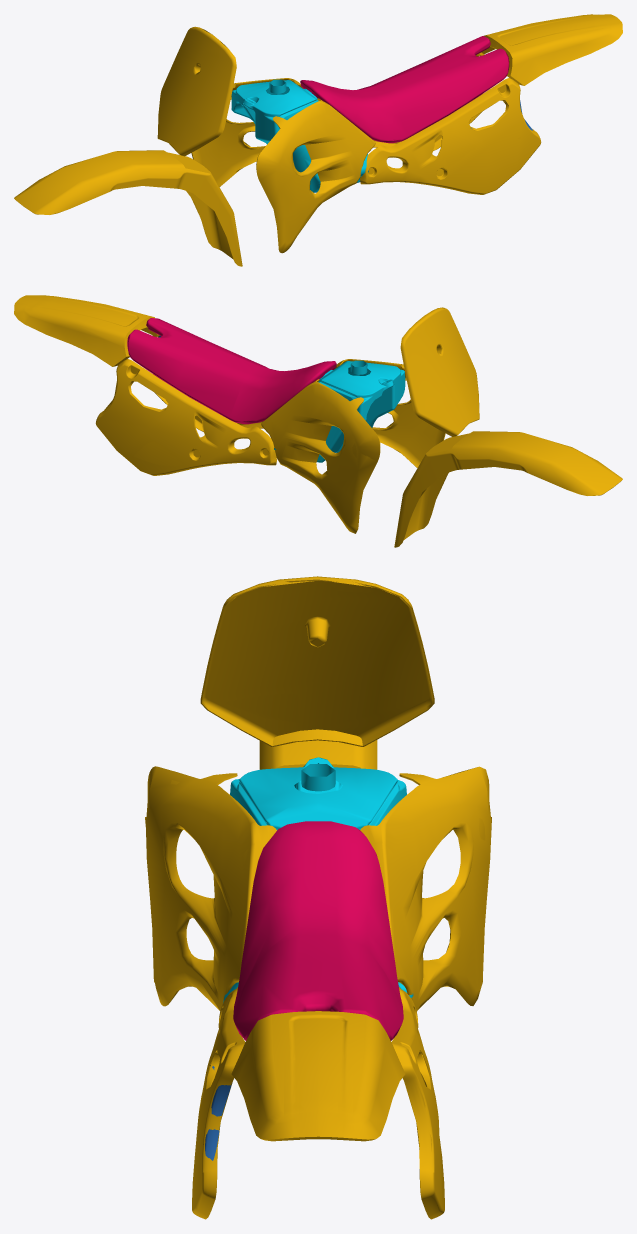
File: Body Plates.fbx
3 renders of one model, top to bottom at view 1: azimuth 30°, elevation 25°; view 2: azimuth 150°, elevation 25°; view 3: azimuth 270°, elevation 25°, orthographic. The views are drawn at different scales.
Visible parts, largest first — view 1: Body Plate 3, Body Plate, Body Plate 1, Body Plate 7, Body Plate 6, Body Plate 5, Body Plate 8, Body Plate 4; view 2: Body Plate 2, Body Plate, Body Plate 4, Body Plate 7, Body Plate 6, Body Plate 5, Body Plate 8, Body Plate 1; view 3: Body Plate 6, Body Plate, Body Plate 1, Body Plate 4, Body Plate 5, Body Plate 8, Body Plate 3, Body Plate 2, Body Plate 7.
Boxes of the visible parts, x1,y1,x2,y2 form: Body Plate 3: (360,78,541,194); Body Plate: (300,36,509,143); Body Plate 1: (256,98,375,253); Body Plate 7: (14,150,242,266); Body Plate 6: (157,26,236,156); Body Plate 5: (477,14,622,85); Body Plate 8: (231,79,368,192); Body Plate 4: (191,78,303,187); Body Plate 2: (95,359,276,475); Body Plate: (127,318,336,424); Body Plate 4: (261,379,380,533); Body Plate 7: (394,431,622,547); Body Plate 6: (400,307,479,436); Body Plate 5: (14,295,159,366); Body Plate 8: (274,360,405,462); Body Plate 1: (334,359,445,467); Body Plate 6: (200,576,434,746); Body Plate: (233,821,403,1040); Body Plate 1: (145,766,276,1011); Body Plate 4: (360,766,491,1011); Body Plate 5: (231,1011,405,1141); Body Plate 8: (223,757,413,1002); Body Plate 3: (192,987,245,1219); Body Plate 2: (391,987,444,1219); Body Plate 7: (259,740,377,769).
Bounding box in the file's own units: 7.06 × 2.59 × 1.79.
